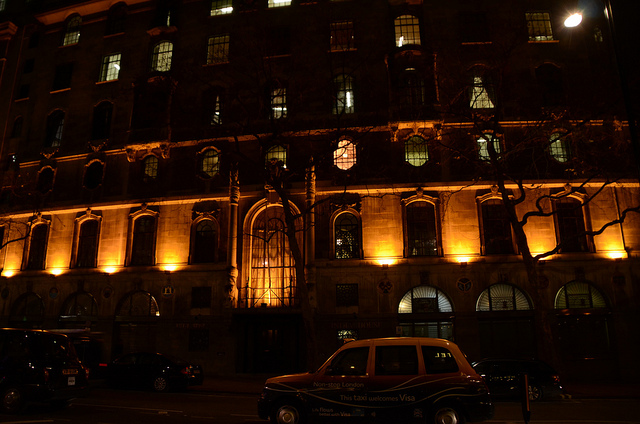car: (253, 337, 500, 422)
